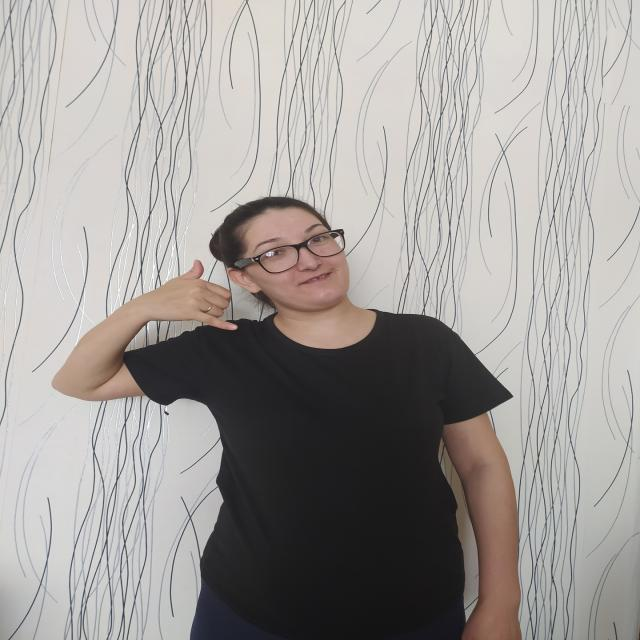call: (148, 259, 240, 334)
